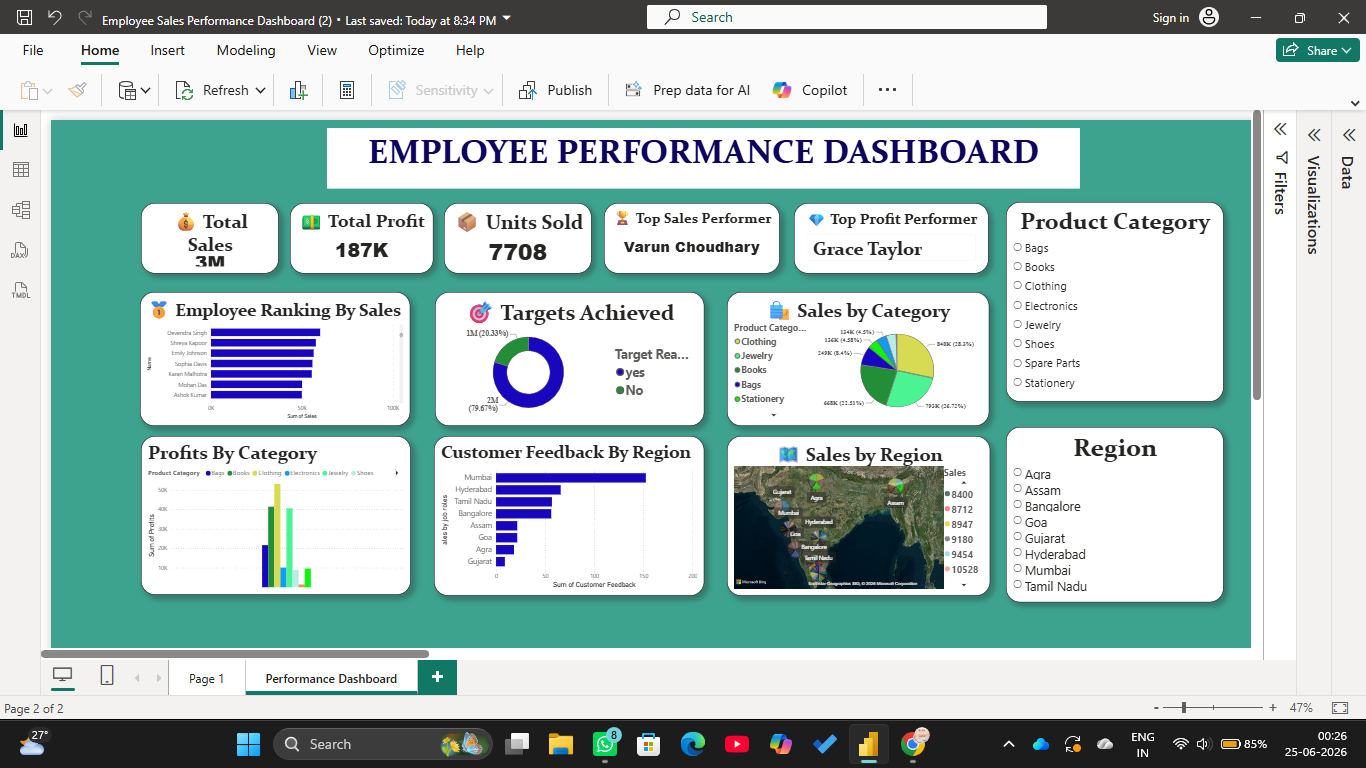

This screenshot's page, from the dashboard's own definition file:
{"tool":"powerbi","page":{"name":"Performance Dashboard","canvas":[2600,1400],"ordinal":1},"visuals":[{"type":"barChart","title":"Customer Feedback By Region ","fields":{"Category":["table.Region"],"Y":["Sum(table.Customer Feedback)"]},"box":[815,672.5,575,340],"z":0},{"type":"donutChart","title":"🎯 Targets Achieved","fields":{"Category":["Table1.Target Reached "],"Y":["Sum(Table1.Sales  )"]},"box":[817.5,365,572.5,285],"z":1000},{"type":"card","title":"💰 Total Sales","fields":{"Values":["Sum(Table1.Sales  )"]},"box":[190.5,176.2,292.9,150],"z":2000},{"type":"card","title":"💵 Total Profit","fields":{"Values":["Sum(Table1.Profits)"]},"box":[509.5,176.2,304.8,150],"z":3000},{"type":"card","title":"📦 Units Sold","fields":{"Values":["Sum(Table1.Units Sold)"]},"box":[835.7,176.2,314.3,150],"z":4000},{"type":"card","title":"🏆 Top Sales Performer","fields":{"Values":["t.top performer (sales)"]},"box":[1176.2,176.2,373.8,150],"z":5000},{"type":"clusteredColumnChart","title":"Profits By Category ","fields":{"Y":["Sum(table.Profits)"],"Series":["table.Product Category "]},"box":[190.5,671.4,573.8,338.1],"z":6000},{"type":"textbox","box":[588.1,16.7,1602.4,128.6],"z":7000},{"type":"cardVisual","title":"💎 Top Profit Performer","fields":{"Data":["t.top performer (profits)"]},"box":[1581,176.2,414.3,150],"z":8000},{"type":"barChart","title":"🥇 Employee Ranking By Sales","fields":{"Category":["table.Name"],"Y":["Sum(table.Sales)"]},"box":[190,365,575,285],"z":9000},{"type":"pieChart","title":"🛍️ Sales by Category","fields":{"Category":["table.Product Category "],"Y":["Sum(table.Sales)"]},"box":[1437.5,365,557.5,285],"z":10000},{"type":"map","title":"🗺️ Sales by Region","fields":{"Category":["table.Region"],"Series":["table.Sales"]},"box":[1437.5,672.5,560,340],"z":11000},{"type":"listSlicer","fields":{"Values":["table.Product Category "]},"box":[2033.3,193.3,462.2,424.4],"z":12000},{"type":"listSlicer","fields":{"Values":["table.Region"]},"box":[2033.3,637.8,462.2,371.1],"z":13000}]}

Visuals, with their boxes on the page's 2600x1400 design canvas (x1, y1, x2, y2). These are canvas units, not pixel positions in the 1366x768 screenshot, which may show the page scaled, cropped or inside an application window:
"Customer Feedback By Region " barChart: BBox(815, 672, 1390, 1012)
"🎯 Targets Achieved" donutChart: BBox(818, 365, 1390, 650)
"💰 Total Sales" card: BBox(190, 176, 483, 326)
"💵 Total Profit" card: BBox(510, 176, 814, 326)
"📦 Units Sold" card: BBox(836, 176, 1150, 326)
"🏆 Top Sales Performer" card: BBox(1176, 176, 1550, 326)
"Profits By Category " clusteredColumnChart: BBox(190, 671, 764, 1010)
textbox: BBox(588, 17, 2190, 145)
"💎 Top Profit Performer" cardVisual: BBox(1581, 176, 1995, 326)
"🥇 Employee Ranking By Sales" barChart: BBox(190, 365, 765, 650)
"🛍️ Sales by Category" pieChart: BBox(1438, 365, 1995, 650)
"🗺️ Sales by Region" map: BBox(1438, 672, 1998, 1012)
listSlicer - table.Product Category : BBox(2033, 193, 2496, 618)
listSlicer - table.Region: BBox(2033, 638, 2496, 1009)
